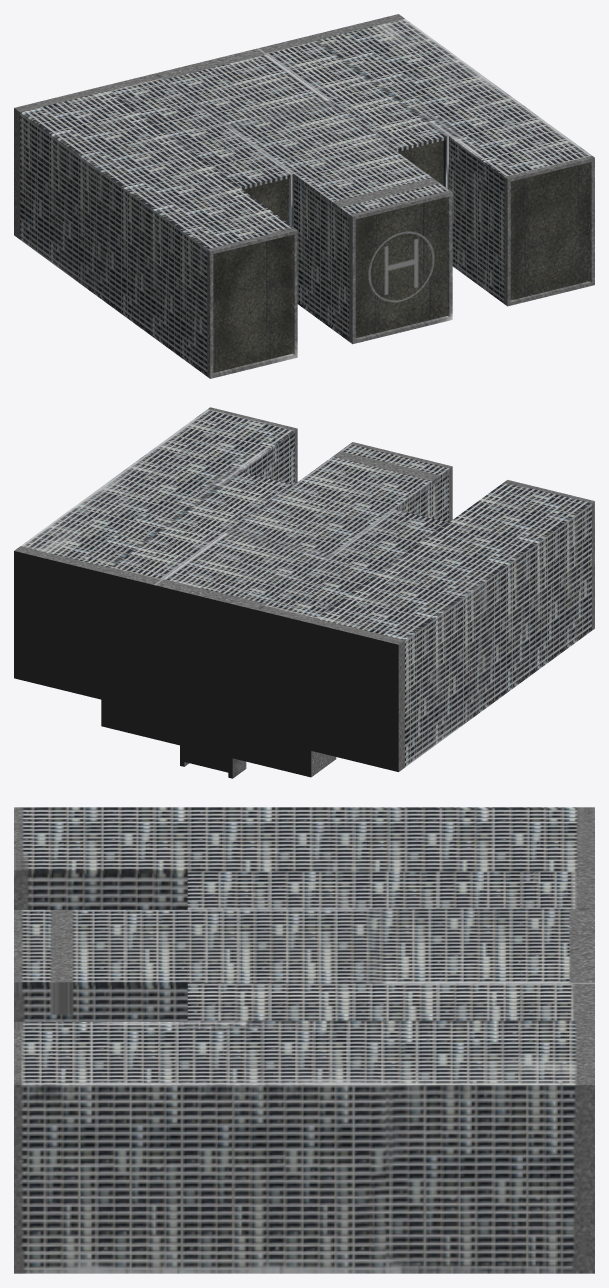
Rendered from hospital-building-v2.glb.
3 views of the same model, one above another, from view 1: azimuth 30°, elevation 25°; view 2: azimuth 150°, elevation 25°; view 3: azimuth 270°, elevation 25° (orthographic). The views are drawn at different scales.
Parts seen in each view (by area): view 1: 10075_Hospital_Building_V1; view 2: 10075_Hospital_Building_V1; view 3: 10075_Hospital_Building_V1.
Part boxes in pixels (left/top/right/bottom): 10075_Hospital_Building_V1: left=14, top=14, right=594, bottom=378; 10075_Hospital_Building_V1: left=14, top=407, right=594, bottom=778; 10075_Hospital_Building_V1: left=14, top=807, right=594, bottom=1273.
Bounding box in the file's own units: 4971 × 2154 × 4393.
1 material, 1 textured.
